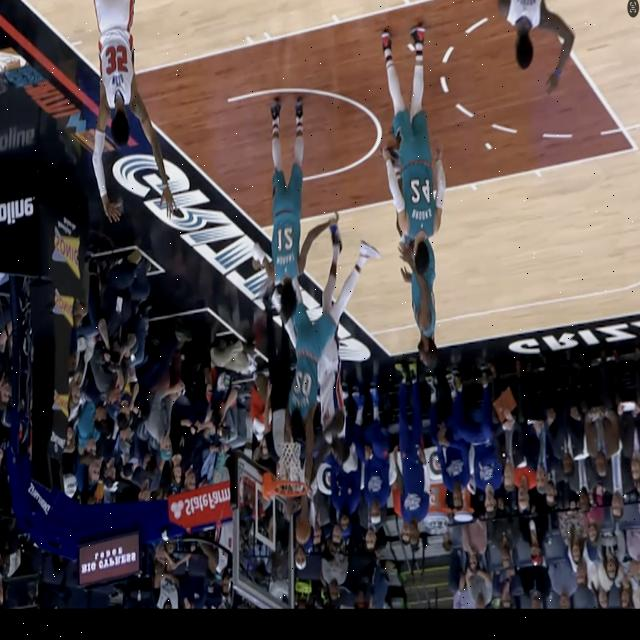foul: (271, 212, 376, 479)
no foul: (376, 25, 446, 373), (254, 89, 324, 321)
